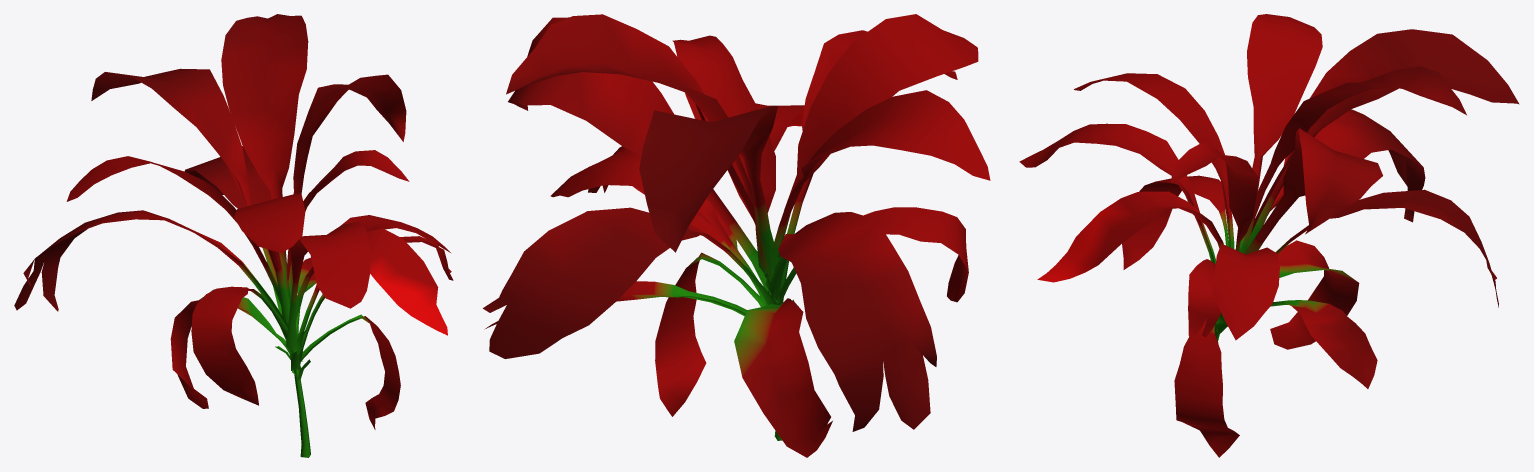
File: Var2_LOD0.fbx
The picture shows the model from 3 angles, left to right: view 1: azimuth 30°, elevation 25°; view 2: azimuth 150°, elevation 25°; view 3: azimuth 270°, elevation 25°; orthographic projection. The views are drawn at different scales.
Visible parts, largest first — view 1: _58ad_Var2_LOD0; view 2: _58ad_Var2_LOD0; view 3: _58ad_Var2_LOD0.
Part boxes in pixels (box(x1,y1,x2,y2)): _58ad_Var2_LOD0: box(14, 14, 453, 457); _58ad_Var2_LOD0: box(483, 14, 990, 457); _58ad_Var2_LOD0: box(1019, 14, 1519, 457).
Bounding box in the file's own units: 29.1 × 27.31 × 32.7.
